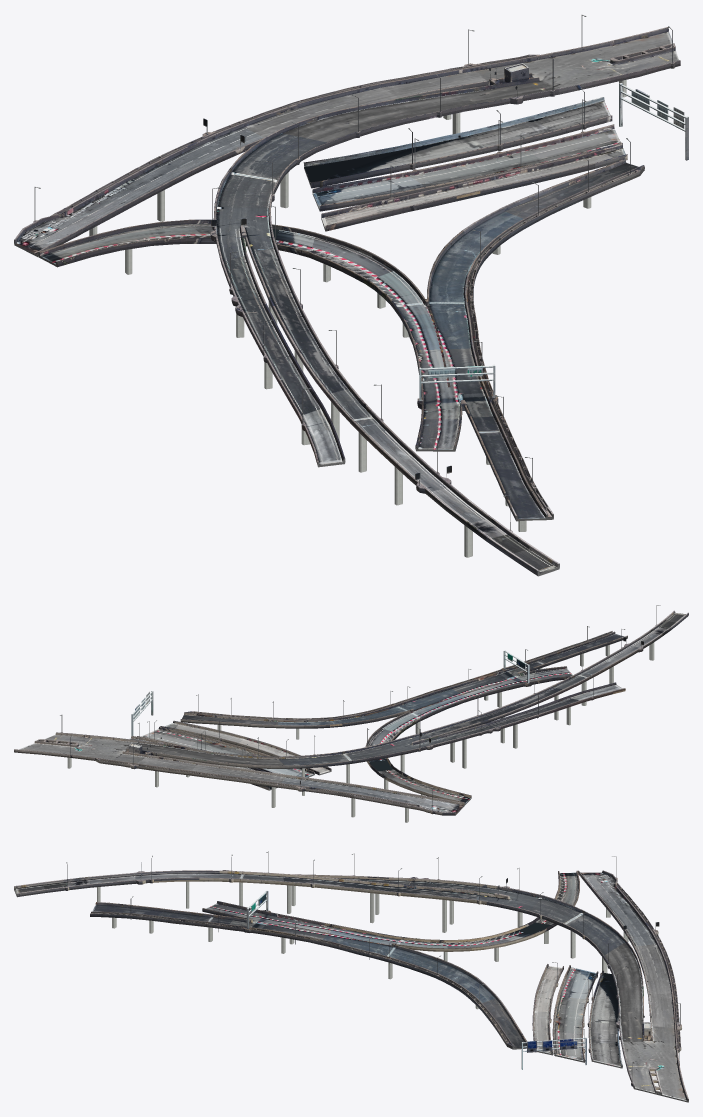
Rendered from kai_tak_flyovers.glb.
3 renders of one model, top to bottom at view 1: azimuth 30°, elevation 25°; view 2: azimuth 150°, elevation 25°; view 3: azimuth 270°, elevation 25°, orthographic. The views are drawn at different scales.
Visible parts, largest first — view 1: I387062036106063A1; view 2: I387062036106063A1; view 3: I387062036106063A1.
Boxes of the visible parts, x1,y1,x2,y2 form: I387062036106063A1: [14, 15, 688, 576]; I387062036106063A1: [14, 605, 688, 822]; I387062036106063A1: [14, 851, 688, 1102].
Size of the model in its own units: 221 by 32.48 by 285.
Materials: 6 (6 with a texture image).
